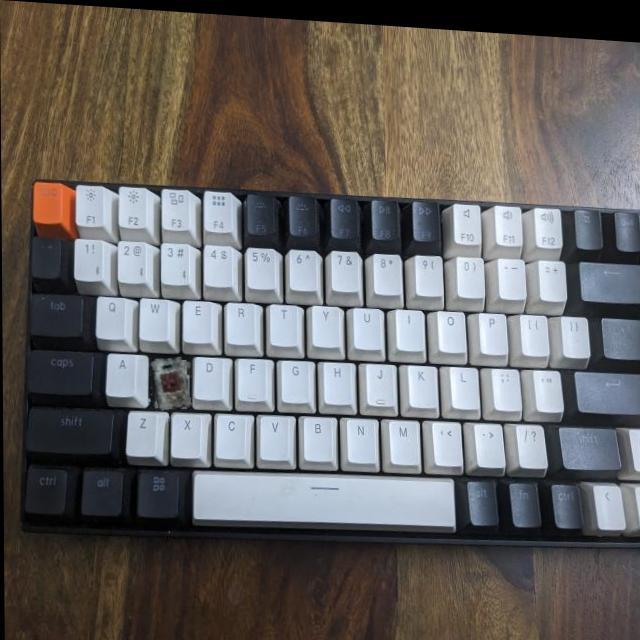key-switch: (151, 355, 189, 409)
